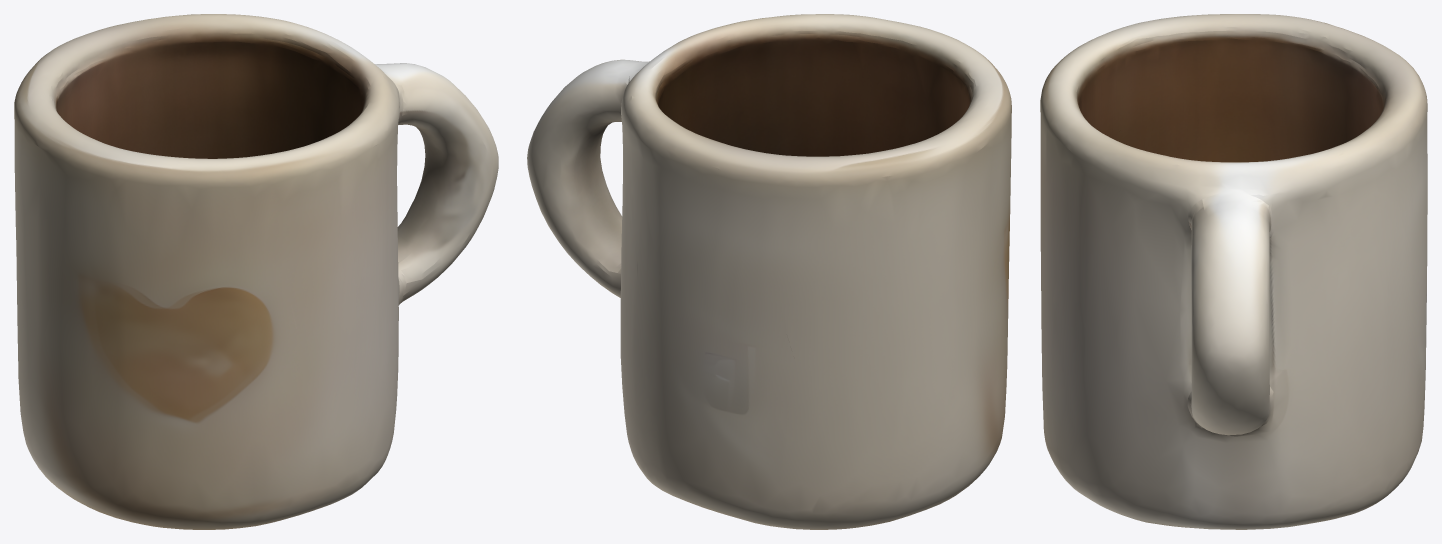
Rendered from mug.glb.
The picture shows the model from 3 angles, left to right: view 1: azimuth 30°, elevation 25°; view 2: azimuth 150°, elevation 25°; view 3: azimuth 270°, elevation 25°; orthographic projection.
Parts seen in each view (by area): view 1: model; view 2: model; view 3: model.
Part boxes in pixels (left/top/right/bottom): model: left=14, top=14, right=498, bottom=529; model: left=527, top=14, right=1011, bottom=529; model: left=1040, top=14, right=1427, bottom=529.
Size of the model in its own units: 1.89 by 1.52 by 1.39.
Materials: 1 (1 with a texture image).
